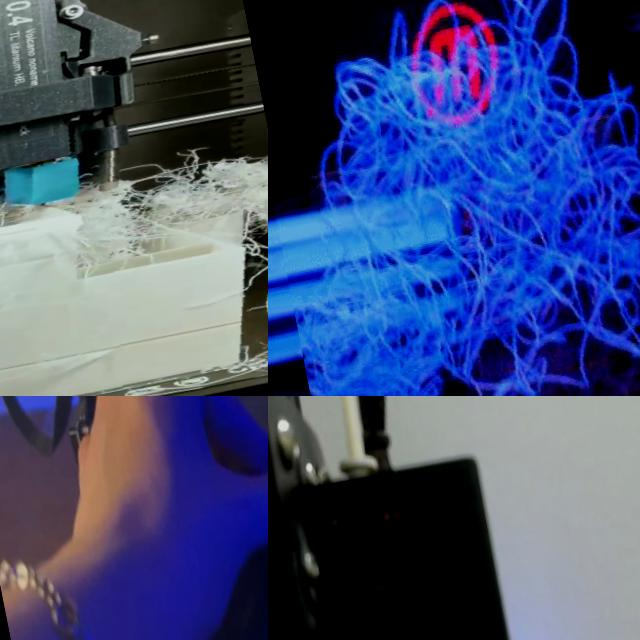spaghetti: (295, 0, 640, 396), (0, 118, 268, 396)
